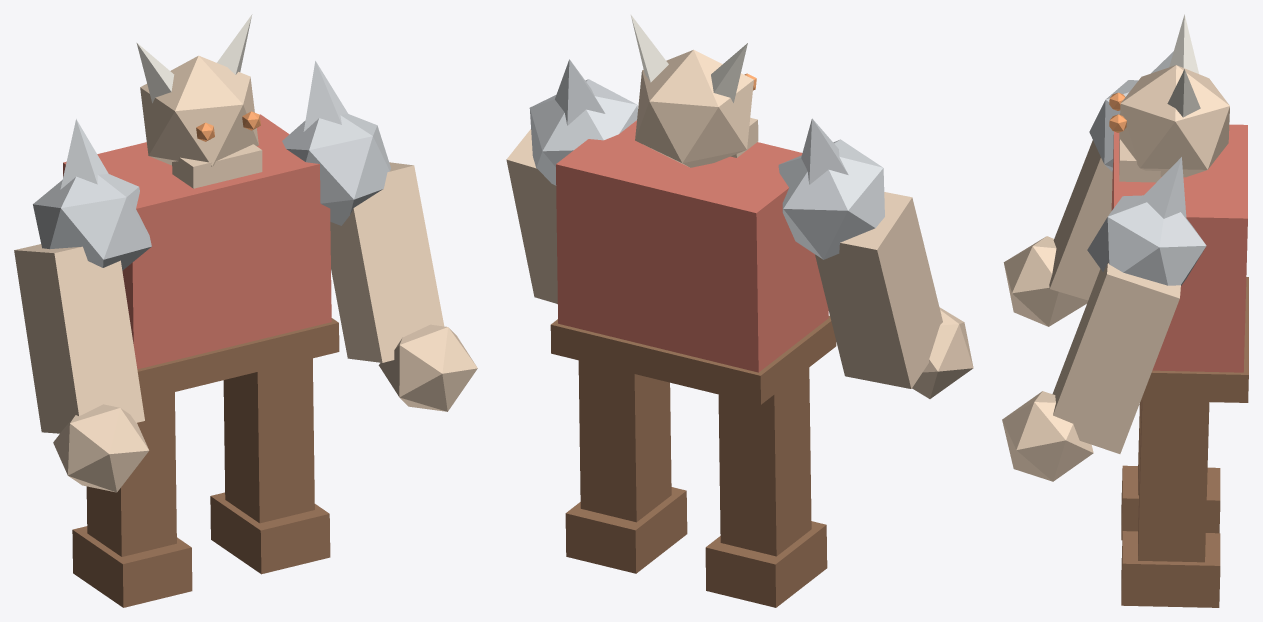
File: npcpose_brute_walk_00.glb
3 views of the same model, side by side, from view 1: azimuth 30°, elevation 25°; view 2: azimuth 150°, elevation 25°; view 3: azimuth 270°, elevation 25° (orthographic). The views are drawn at different scales.
Parts seen in each view (by area): view 1: npcpose; view 2: npcpose; view 3: npcpose.
Part boxes in pixels (left/top/right/bottom): npcpose: left=14, top=14, right=477, bottom=607; npcpose: left=506, top=14, right=973, bottom=607; npcpose: left=1002, top=14, right=1248, bottom=607.
Size of the model in its own units: 1.48 by 1.86 by 0.8047.
